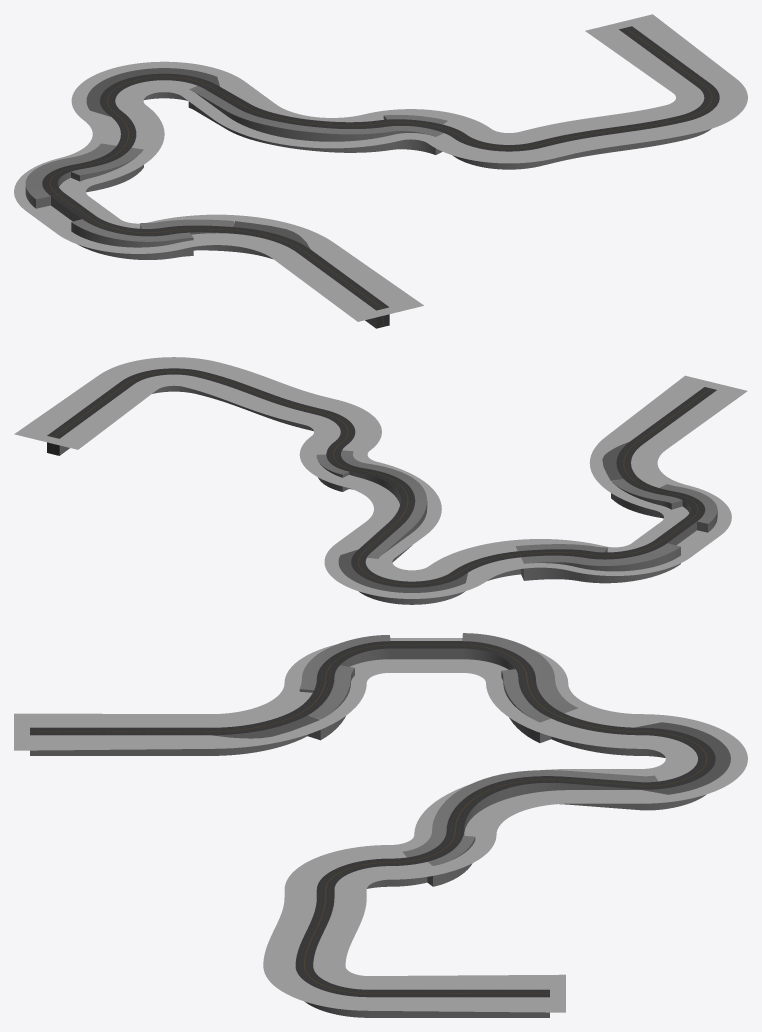
Rendered from race3.fbx.
The picture shows the model from 3 angles, top to bottom: view 1: azimuth 30°, elevation 25°; view 2: azimuth 150°, elevation 25°; view 3: azimuth 270°, elevation 25°; orthographic projection. The views are drawn at different scales.
Visible parts, largest first — view 1: polySurface49; view 2: polySurface49; view 3: polySurface49.
Boxes of the visible parts, left/top/right/bottom form: polySurface49: left=14, top=14, right=747, bottom=328; polySurface49: left=14, top=357, right=747, bottom=604; polySurface49: left=14, top=633, right=747, bottom=1017.
Size of the model in its own units: 77894 by 3038 by 64513.
4 materials, 1 textured.
